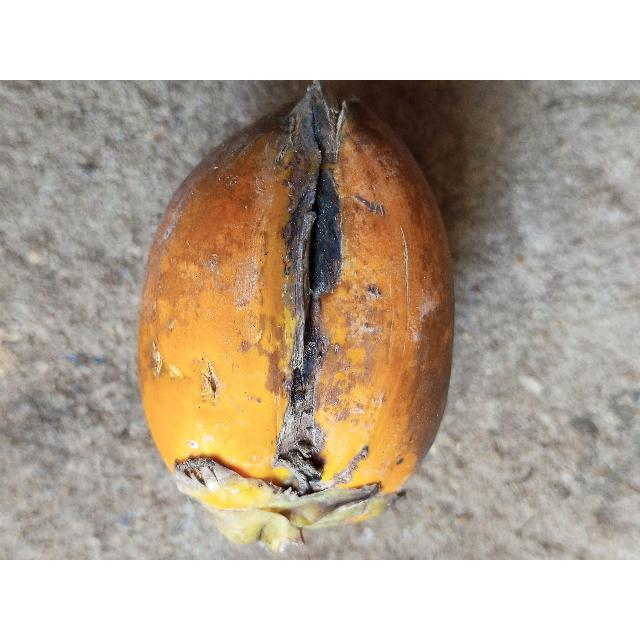damaged: (138, 82, 453, 550)
